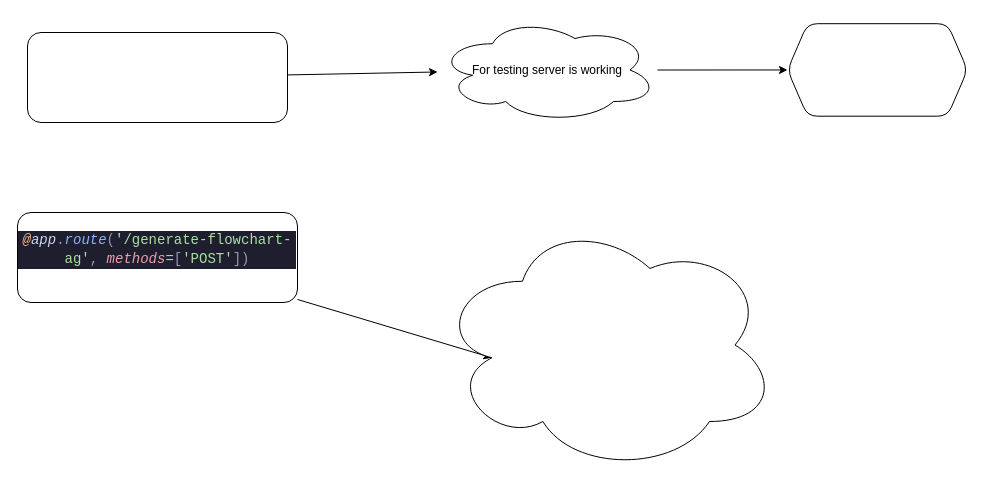
Image size: 985x490. Some labels were removed from this diagram. Here are the shapes that lost their labels. From the top down, the centre of each, then its label:
At pixel 157 77: "@ app . route ( '/test-ag' , methods = [ 'GET' ])".
At pixel 877 69: "Add Server Status logic to frontend".
